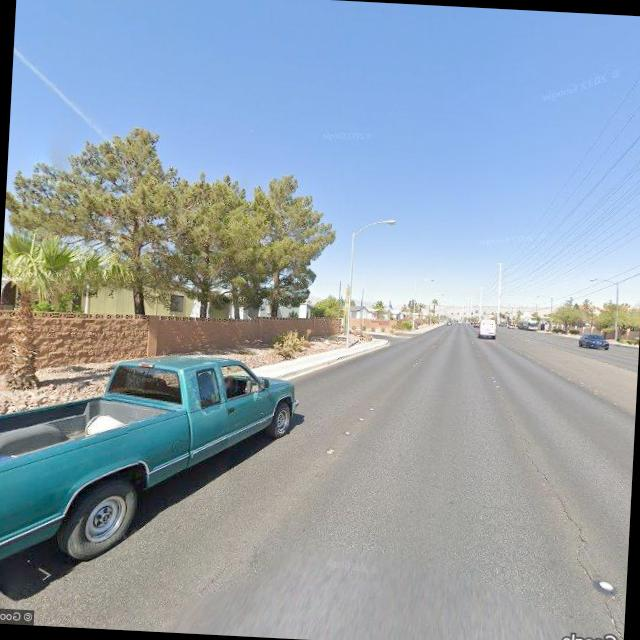crack: (514, 448, 634, 632), (197, 559, 234, 597)
